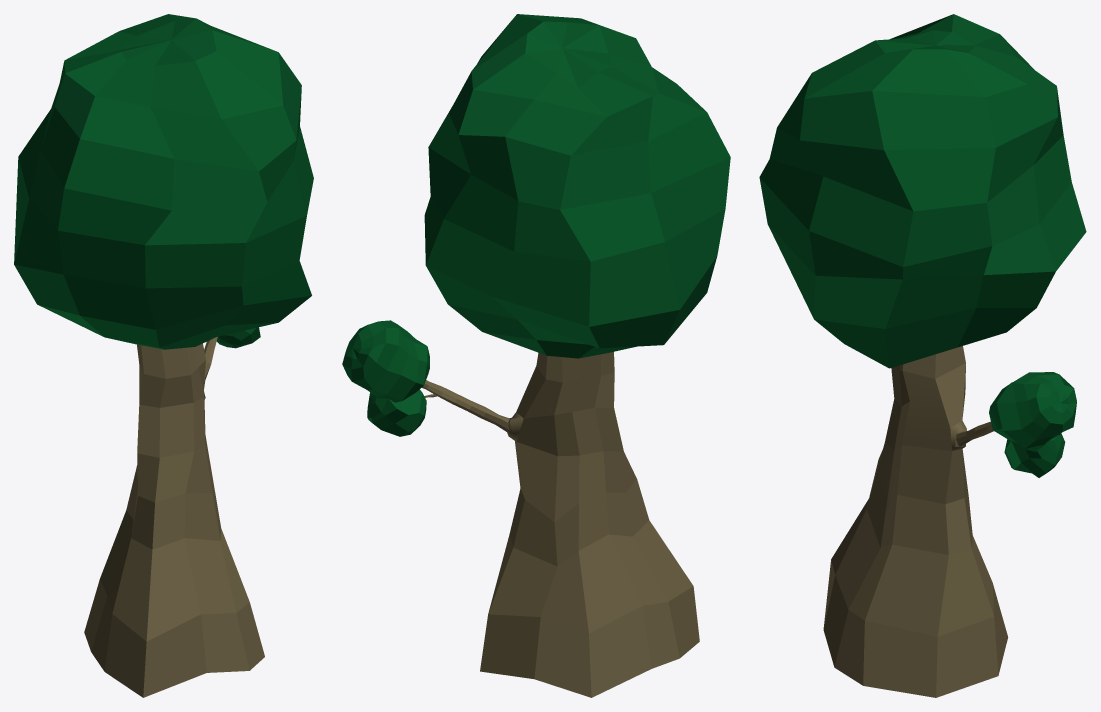
Rendered from Drvo2.fbx.
3 views of the same model, side by side, from view 1: azimuth 30°, elevation 25°; view 2: azimuth 150°, elevation 25°; view 3: azimuth 270°, elevation 25° (orthographic). The views are drawn at different scales.
Parts seen in each view (by area): view 1: Drvo2; view 2: Drvo2; view 3: Drvo2.
Part boxes in pixels (box(x1,y1,x2,y2)): Drvo2: box(14, 14, 313, 697); Drvo2: box(342, 14, 730, 697); Drvo2: box(759, 14, 1086, 697).
Bounding box in the file's own units: 434 × 877 × 415.
